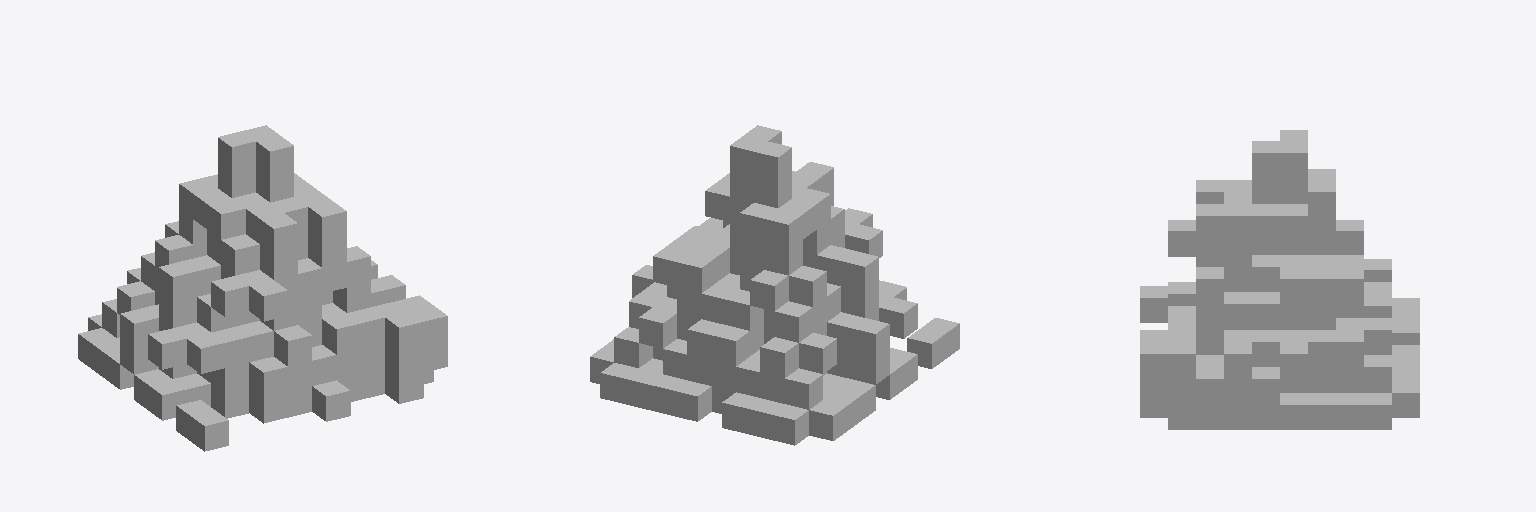
The model's file is caillou 2.obj.
3 renders of one model, left to right at view 1: azimuth 30°, elevation 25°; view 2: azimuth 150°, elevation 25°; view 3: azimuth 270°, elevation 25°, orthographic.
Visible parts, largest first — view 1: object 1; view 2: object 1; view 3: object 1.
Boxes of the visible parts, box(x1,y1,x2,y2) form: object 1: box(78, 125, 447, 451); object 1: box(590, 125, 959, 445); object 1: box(1140, 130, 1419, 429).
Bounding box in the file's own units: 1 × 0.9 × 1.